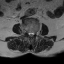CCS_stenosis: (30, 30, 32, 38)
LFS_normal: (34, 31, 36, 36)
LLS_normal: (32, 31, 34, 37)
RFS_stenosis: (26, 29, 28, 35)
RLS_normal: (28, 30, 30, 36)
